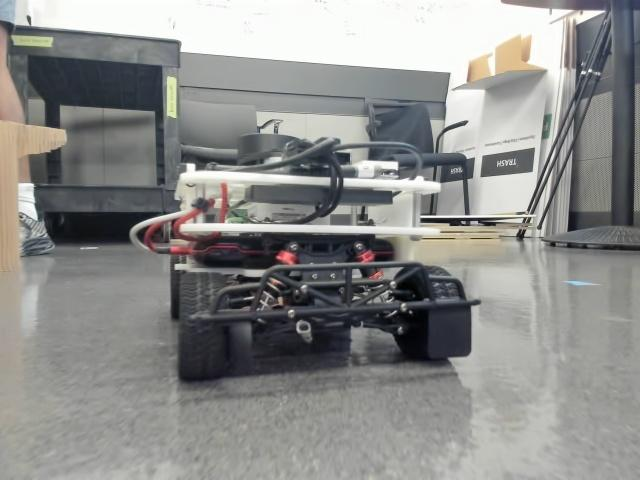Car: (157, 143, 467, 387)
